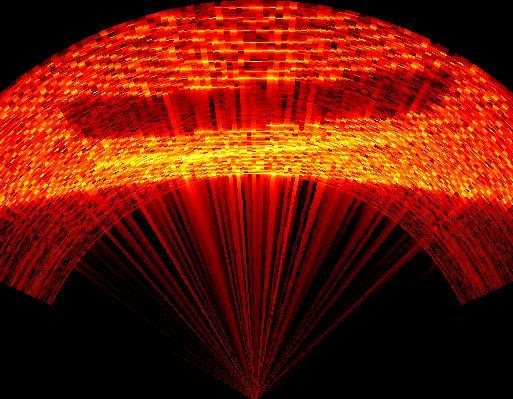pipe: (60, 66, 463, 142)
